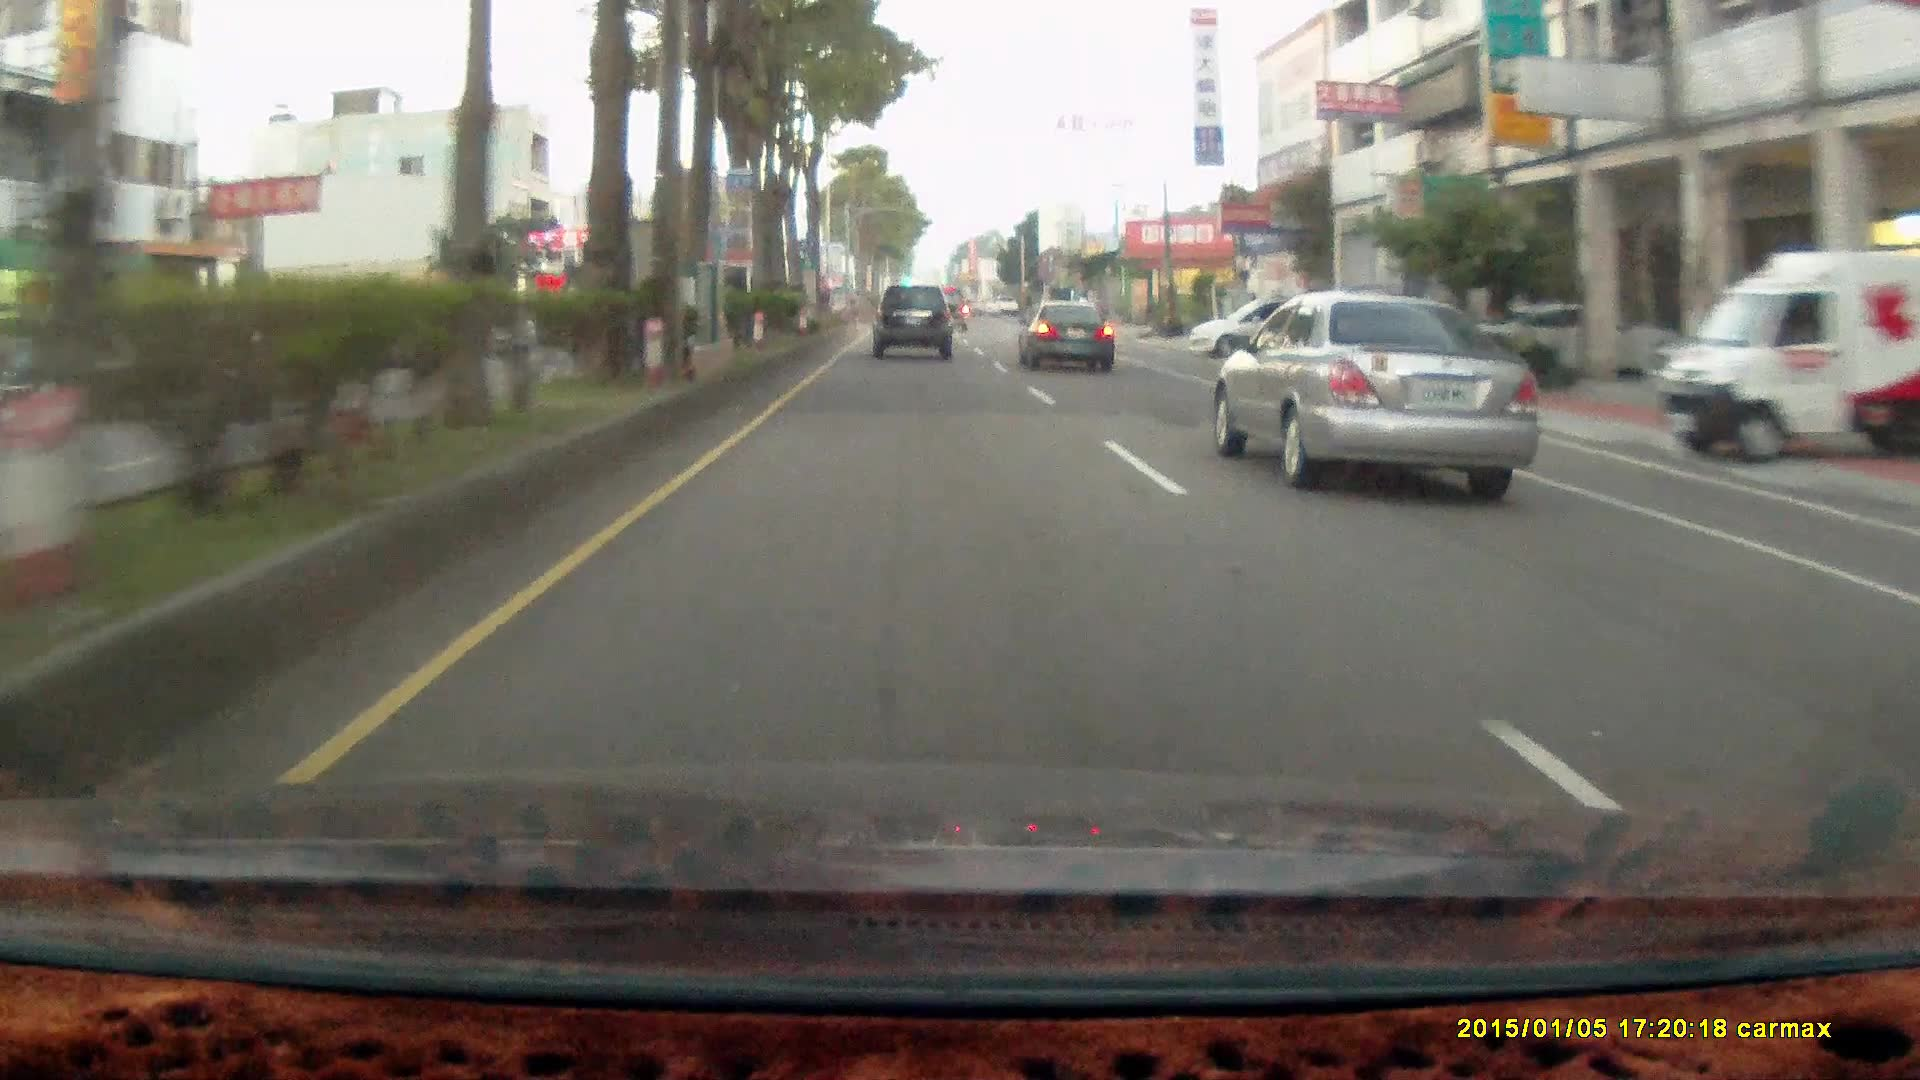vehicle: (1218, 291, 1545, 489), (1658, 251, 1920, 467), (1455, 301, 1684, 381), (1305, 285, 1455, 385), (1192, 302, 1352, 368), (1185, 295, 1341, 363), (1017, 299, 1120, 375), (1015, 297, 1114, 371), (873, 284, 956, 363), (872, 284, 952, 357)
